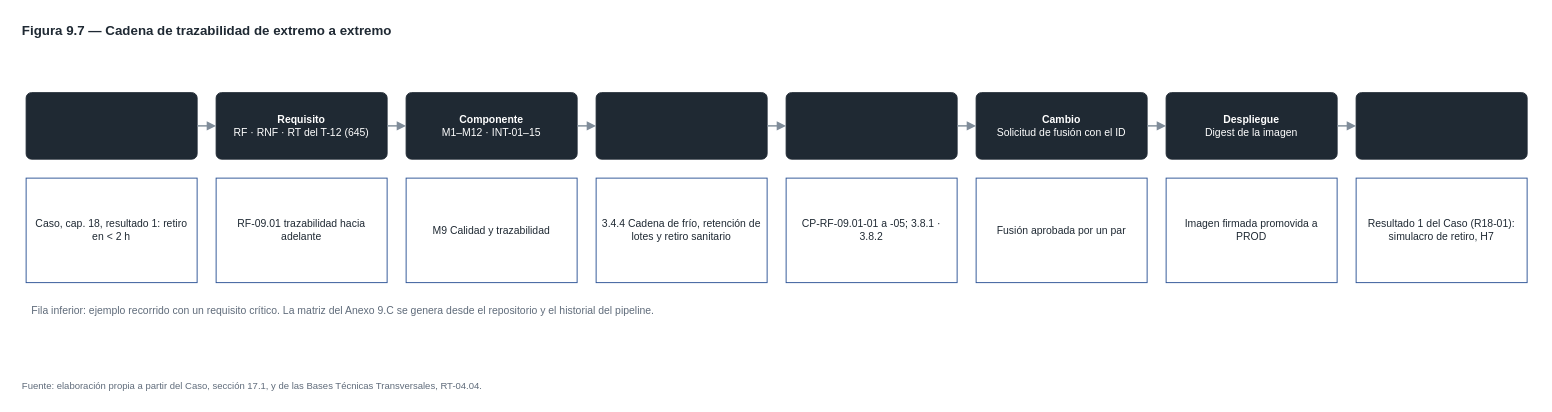
The diagram is 1552 pixels wide and 412 high, and some of its shapes have lost their labels. The centre of each missing label's shape, as x and y in pixels:
"Aceptación Acta T-17" goes at pixel 1441 125.
"Caso de prueba CP-«ID»-nn" goes at pixel 871 125.
"Origen Párrafo del Caso o RT" goes at pixel 111 125.
"Paquete EDT Formulario T-14" goes at pixel 681 125.
